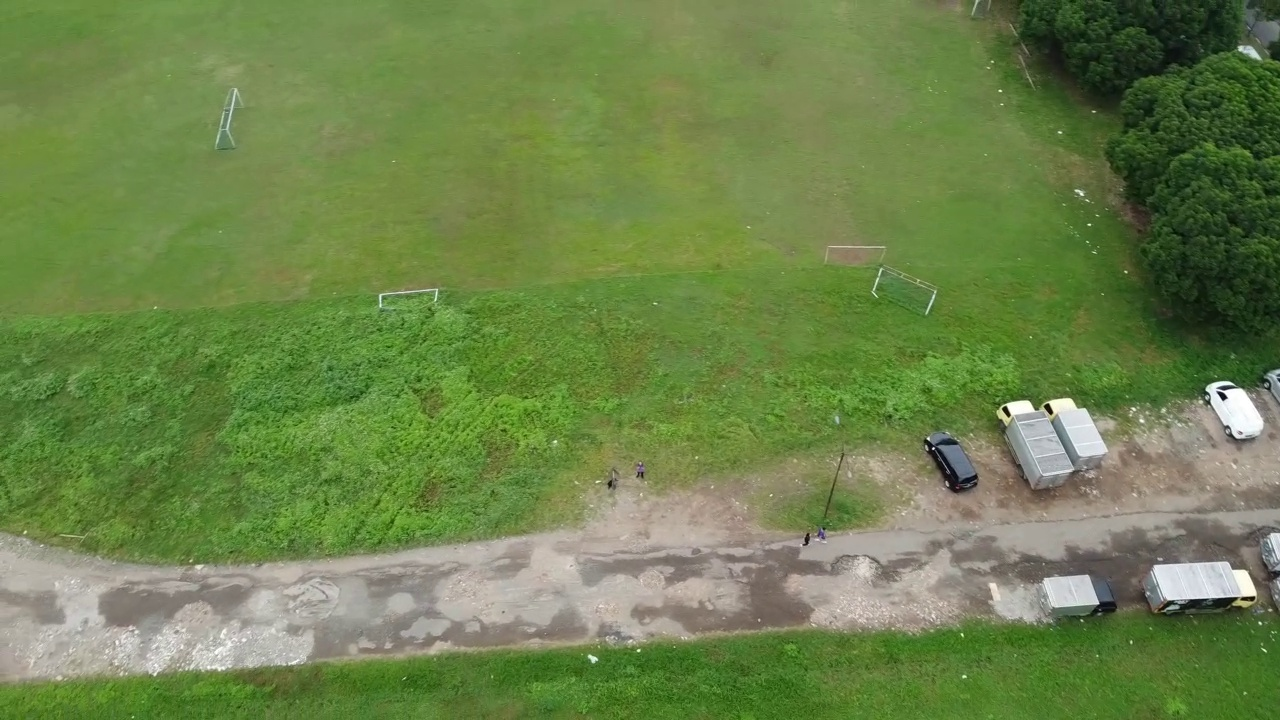mobil: (1199, 376, 1265, 448), (920, 427, 978, 492)
